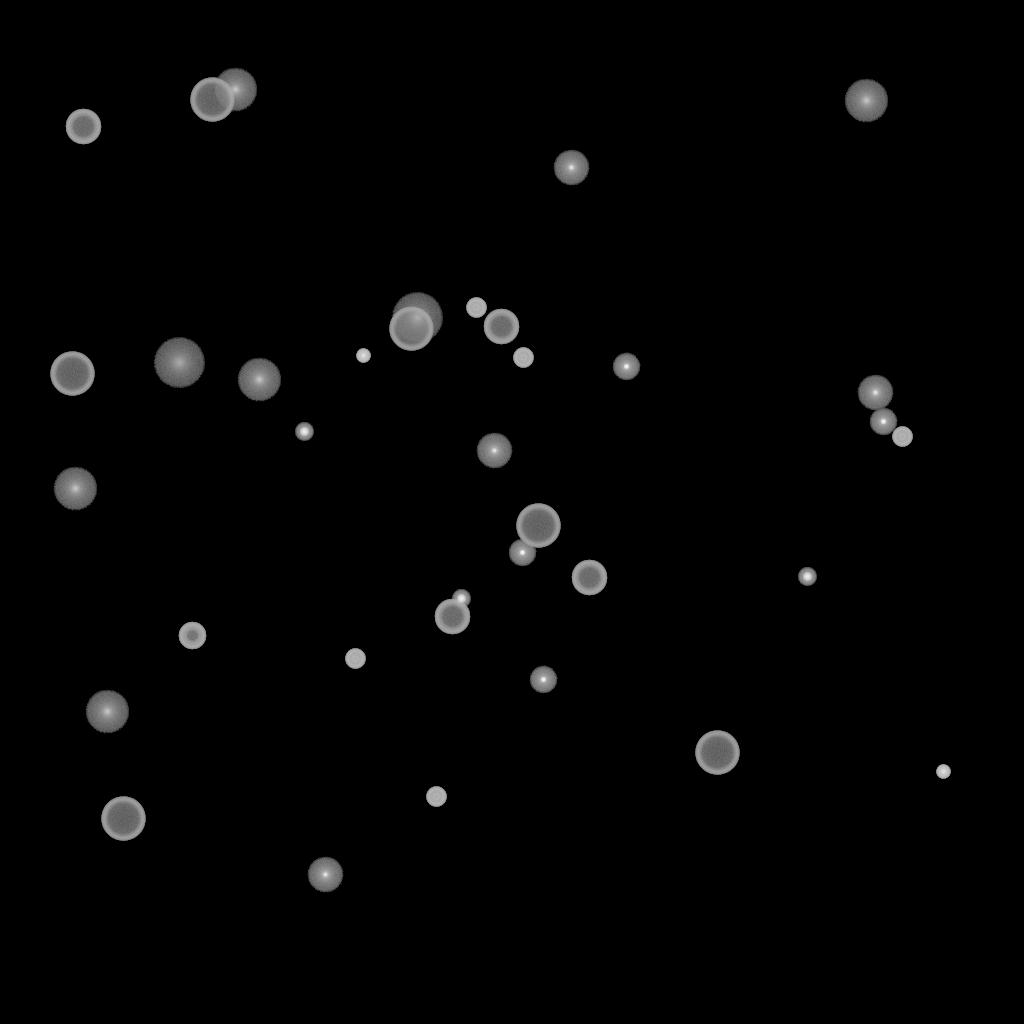depth:-10: (869, 408, 897, 436), (612, 353, 640, 381), (529, 666, 557, 694), (508, 539, 536, 567)
depth:-20: (798, 568, 816, 586), (295, 423, 313, 441), (452, 590, 470, 608)
depth:-30: (356, 349, 370, 363), (936, 765, 950, 779)
depth:-40: (426, 787, 446, 807), (466, 298, 486, 318), (892, 427, 912, 447), (345, 649, 365, 669), (513, 348, 533, 368)
depth:-50: (178, 622, 206, 650)
depth:-60: (65, 109, 101, 145), (434, 599, 470, 635), (483, 309, 519, 345), (571, 560, 607, 596)
depth:-70: (101, 797, 145, 841), (190, 78, 234, 122), (516, 504, 560, 548), (389, 307, 433, 351), (695, 731, 739, 775), (50, 352, 94, 396)
depth:0: (476, 433, 512, 469), (553, 150, 589, 186), (857, 375, 893, 411), (307, 857, 343, 893)
depth:10: (844, 79, 888, 123), (85, 690, 129, 734), (53, 467, 97, 511), (237, 358, 281, 402), (213, 68, 257, 112)
depth:20: (153, 338, 205, 388), (391, 293, 443, 343)
